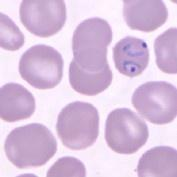Infected: (114, 35, 150, 78)
Uninfected: (3, 122, 55, 168), (71, 16, 112, 73), (104, 106, 149, 155), (56, 100, 100, 150), (17, 45, 63, 90), (131, 80, 177, 125), (20, 0, 68, 39), (69, 57, 112, 95), (122, 0, 169, 32), (0, 82, 36, 121), (136, 145, 177, 177)
